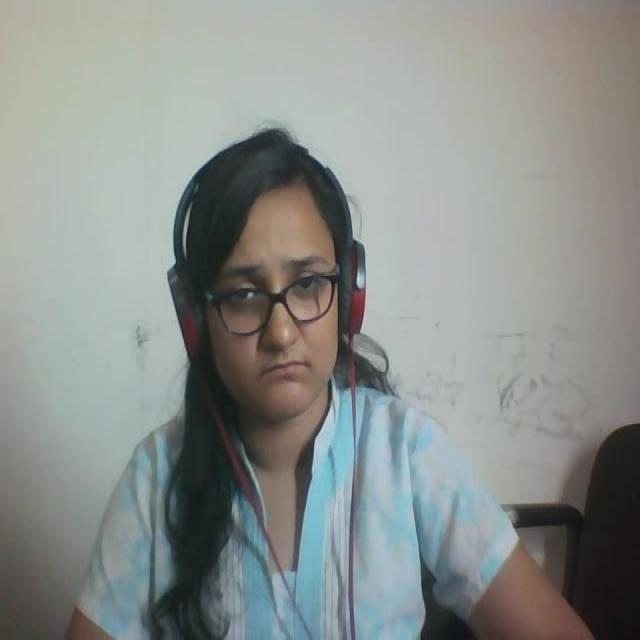Engaged: (159, 114, 396, 442)
